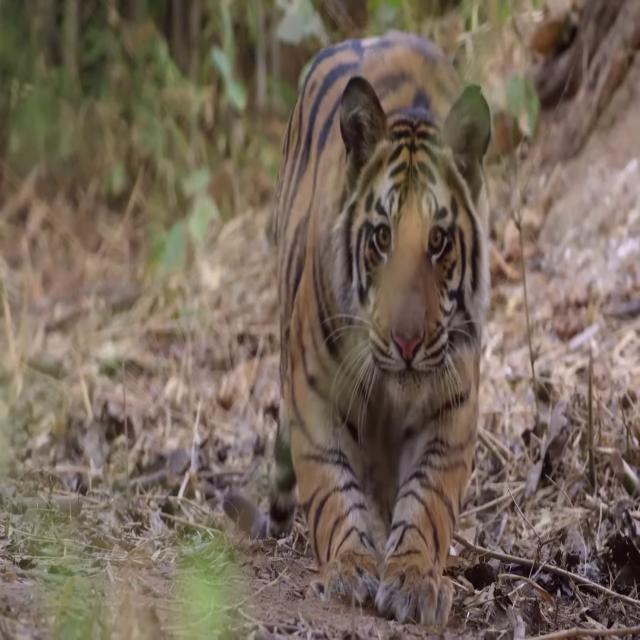tiger: (221, 25, 495, 626)
